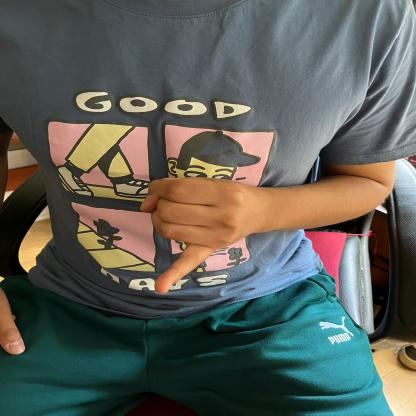Z: (138, 169, 250, 293)
